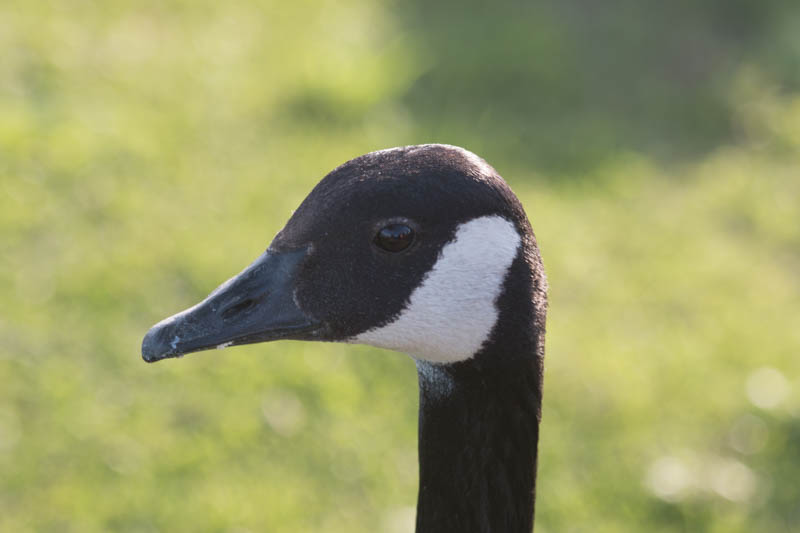goose-head: (140, 143, 548, 364)
